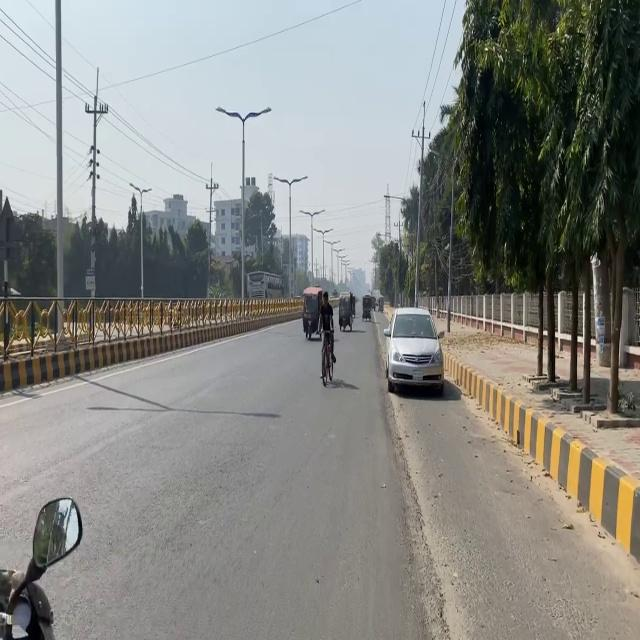Broken-road: (372, 294, 468, 406)
Construction-barrier: (370, 306, 452, 638)
Fallen-tree: (0, 496, 82, 639)
Light-pole: (53, 0, 64, 339)
Pole: (2, 284, 248, 392)
Pothole: (372, 302, 639, 638)
Traffic-cone: (301, 286, 322, 338)
